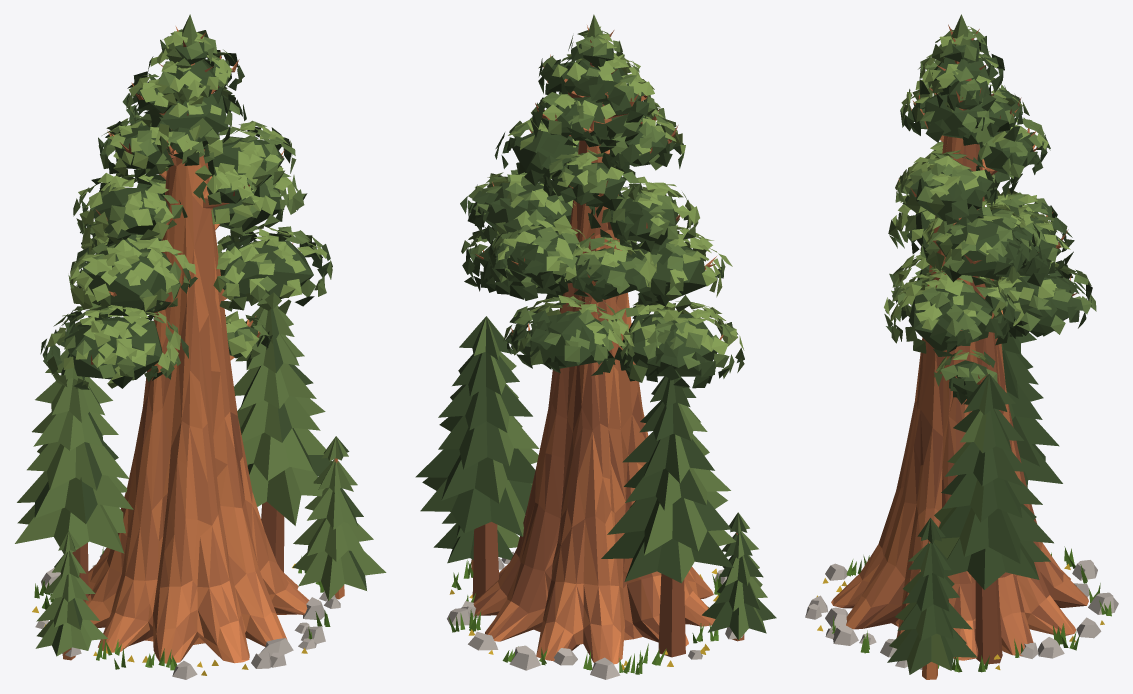
Rendered from giant_sequoia_bloom.glb.
The picture shows the model from 3 angles, left to right: view 1: azimuth 30°, elevation 25°; view 2: azimuth 150°, elevation 25°; view 3: azimuth 270°, elevation 25°; orthographic projection.
Visible parts, largest first — view 1: giant_sequoia_bloom; view 2: giant_sequoia_bloom; view 3: giant_sequoia_bloom.
Part boxes in pixels (x1,y1,x2,y2): giant_sequoia_bloom: (15, 14, 386, 679); giant_sequoia_bloom: (415, 14, 776, 679); giant_sequoia_bloom: (805, 14, 1118, 679).
Bounding box in the file's own units: 27.19 × 46.83 × 22.2.
